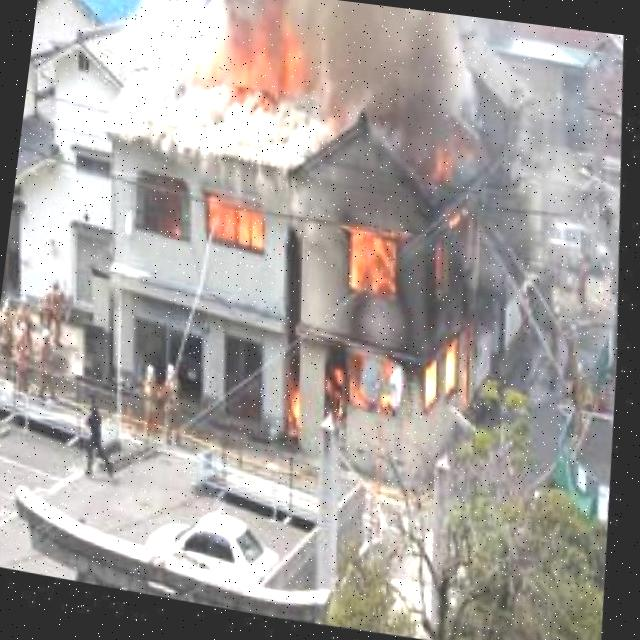fire: (255, 113, 532, 475), (184, 0, 335, 116), (161, 189, 279, 267)
